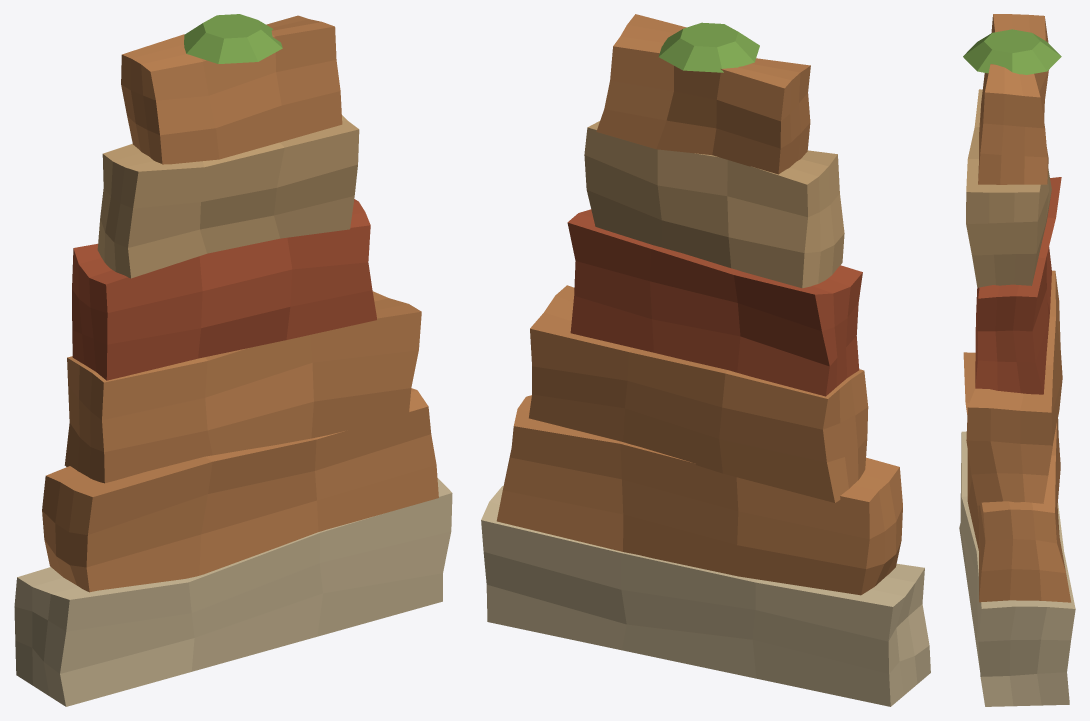
File: rock_fin.glb
The picture shows the model from 3 angles, left to right: view 1: azimuth 30°, elevation 25°; view 2: azimuth 150°, elevation 25°; view 3: azimuth 270°, elevation 25°; orthographic projection. The views are drawn at different scales.
Visible parts, largest first — view 1: rock_fin; view 2: rock_fin; view 3: rock_fin.
Boxes of the visible parts, <box> form: rock_fin: <box>14,14,452,706</box>; rock_fin: <box>481,14,930,706</box>; rock_fin: <box>959,14,1075,706</box>.
Size of the model in its own units: 31.09 by 44.9 by 8.23.
